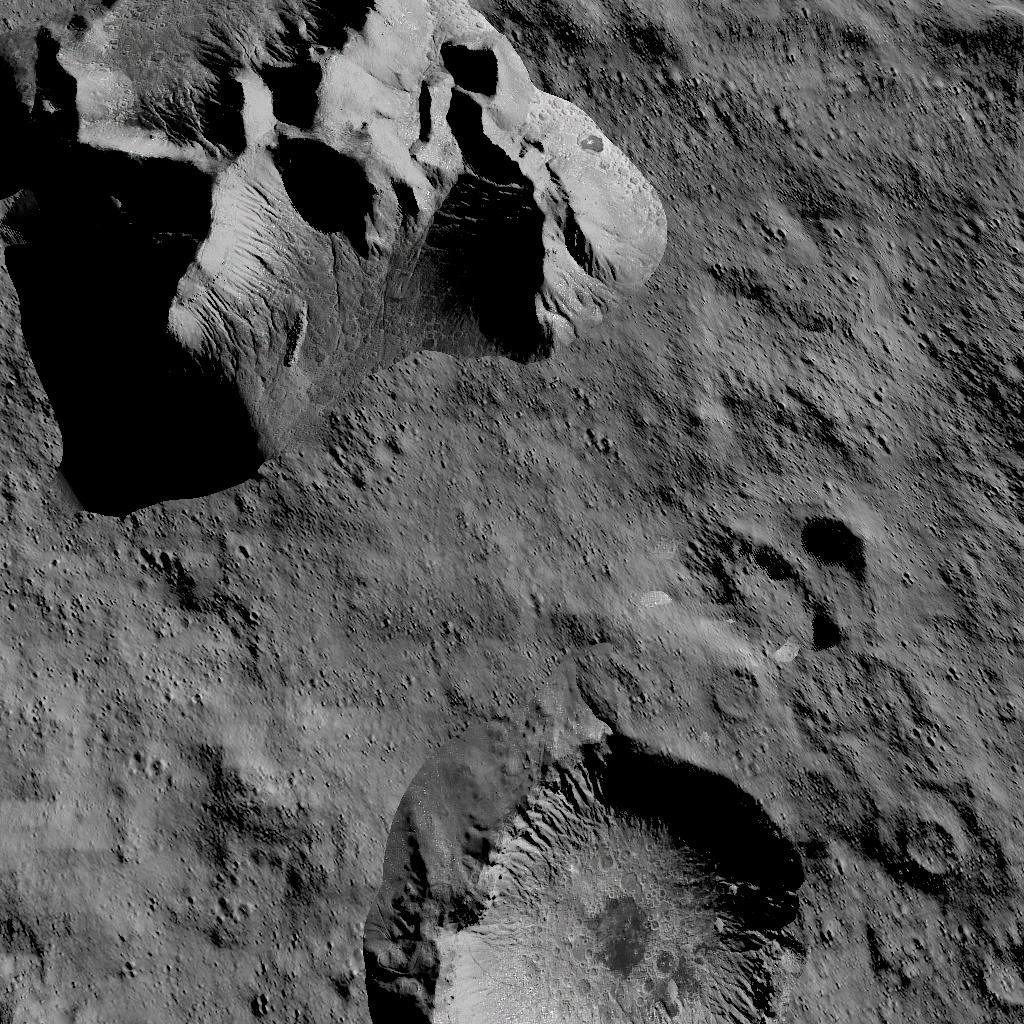Boulders: (0, 0, 700, 507)
Crater: (372, 723, 864, 1021), (793, 512, 896, 662)
Plan surface: (0, 522, 360, 1024), (736, 4, 1024, 480), (402, 516, 654, 713)
